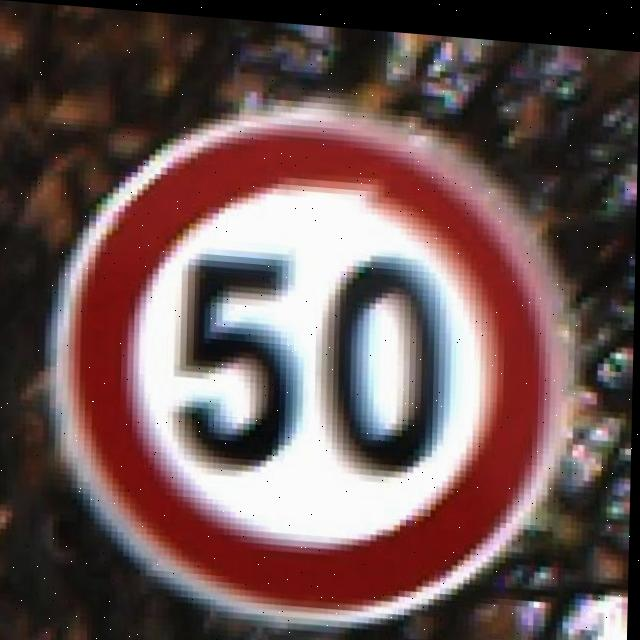Speed limit 50: (46, 92, 575, 636)
